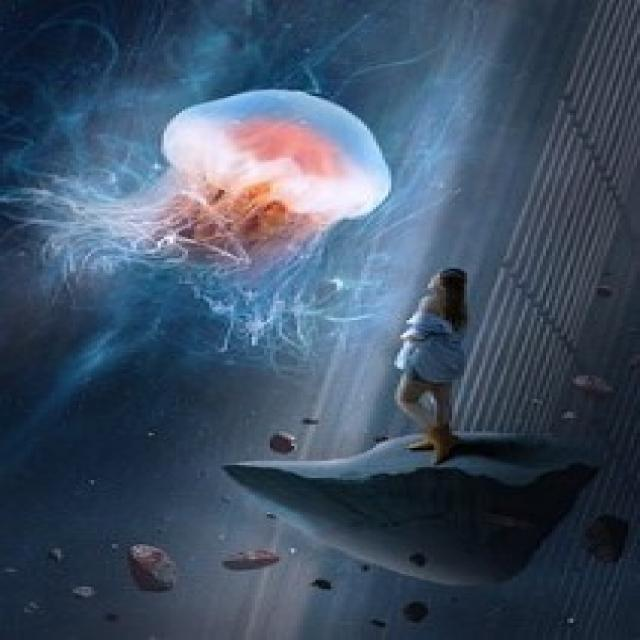Jellyfish: (64, 83, 425, 312)
